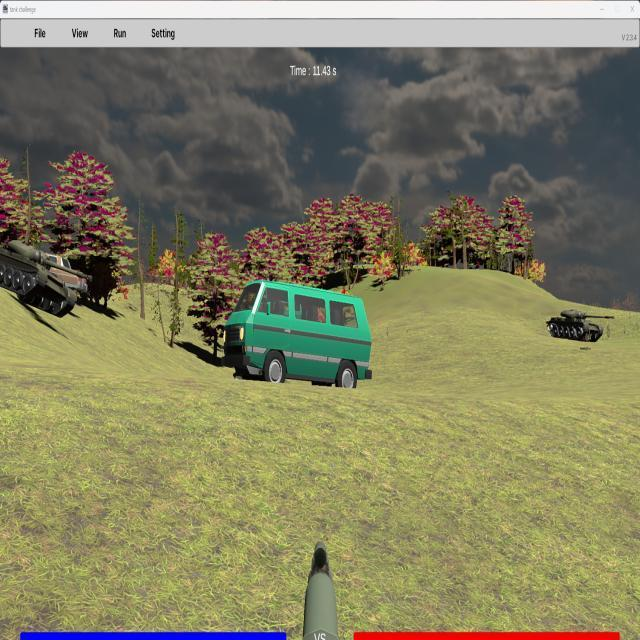Tank: (0, 239, 90, 318), (545, 308, 615, 342)
car: (224, 280, 372, 389)
